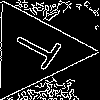T: (9, 25, 72, 75)
